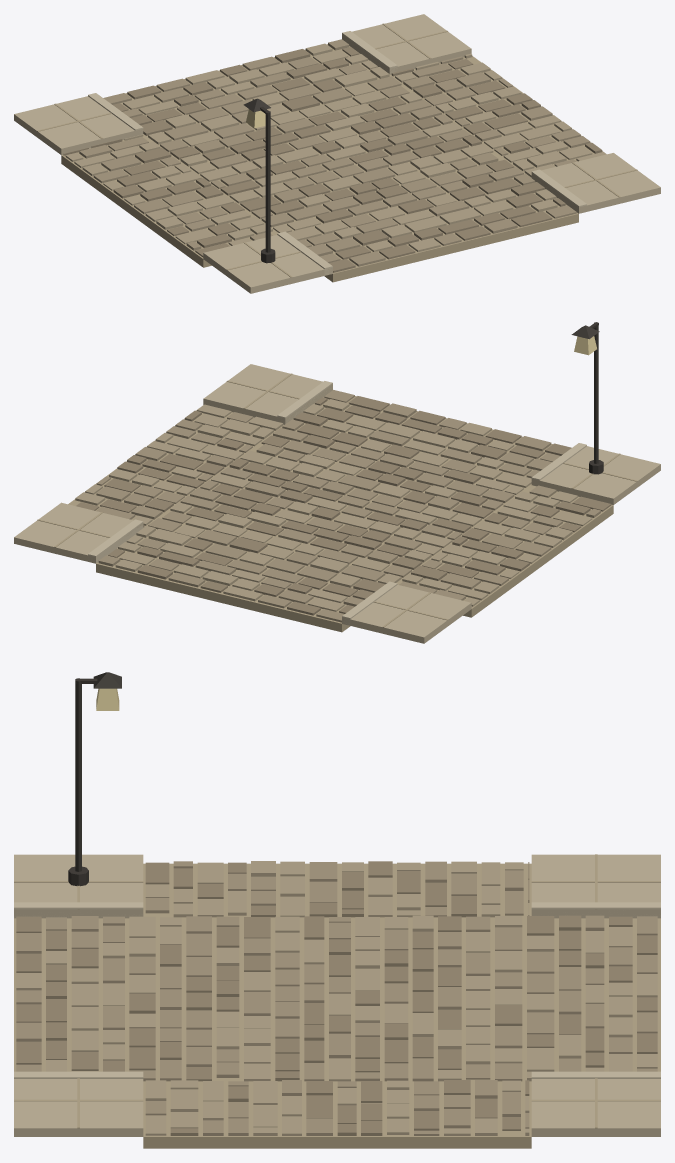
File: yol-kavsak.glb
3 renders of one model, top to bottom at view 1: azimuth 30°, elevation 25°; view 2: azimuth 150°, elevation 25°; view 3: azimuth 270°, elevation 25°, orthographic. The views are drawn at different scales.
Visible parts, largest first — view 1: yol2, yol, yol3, kaldirim, harc, bordur, demir; view 2: yol2, yol, yol3, kaldirim, harc, bordur, demir; view 3: yol2, yol, yol3, harc, kaldirim, bordur, demir.
Part boxes in pixels (x1,y1,x2,y2): yol2: (65,43,606,252); yol: (79,39,590,266); yol3: (63,47,602,272); kaldirim: (14,14,660,293); harc: (37,23,637,282); bordur: (88,31,586,275); demir: (243,98,275,263); yol2: (75,399,592,611); yol: (96,390,600,622); yol3: (76,396,611,615); kaldirim: (14,364,660,643); harc: (37,373,637,632); bordur: (88,381,586,625); demir: (571,322,603,474); yol2: (16,861,657,1135); yol: (16,861,657,1135); yol3: (16,861,657,1135); harc: (14,854,660,1148); kaldirim: (14,854,660,1136); bordur: (14,902,660,1078); demir: (68,672,121,886).
Size of the model in its own units: 10 by 3.92 by 10.
